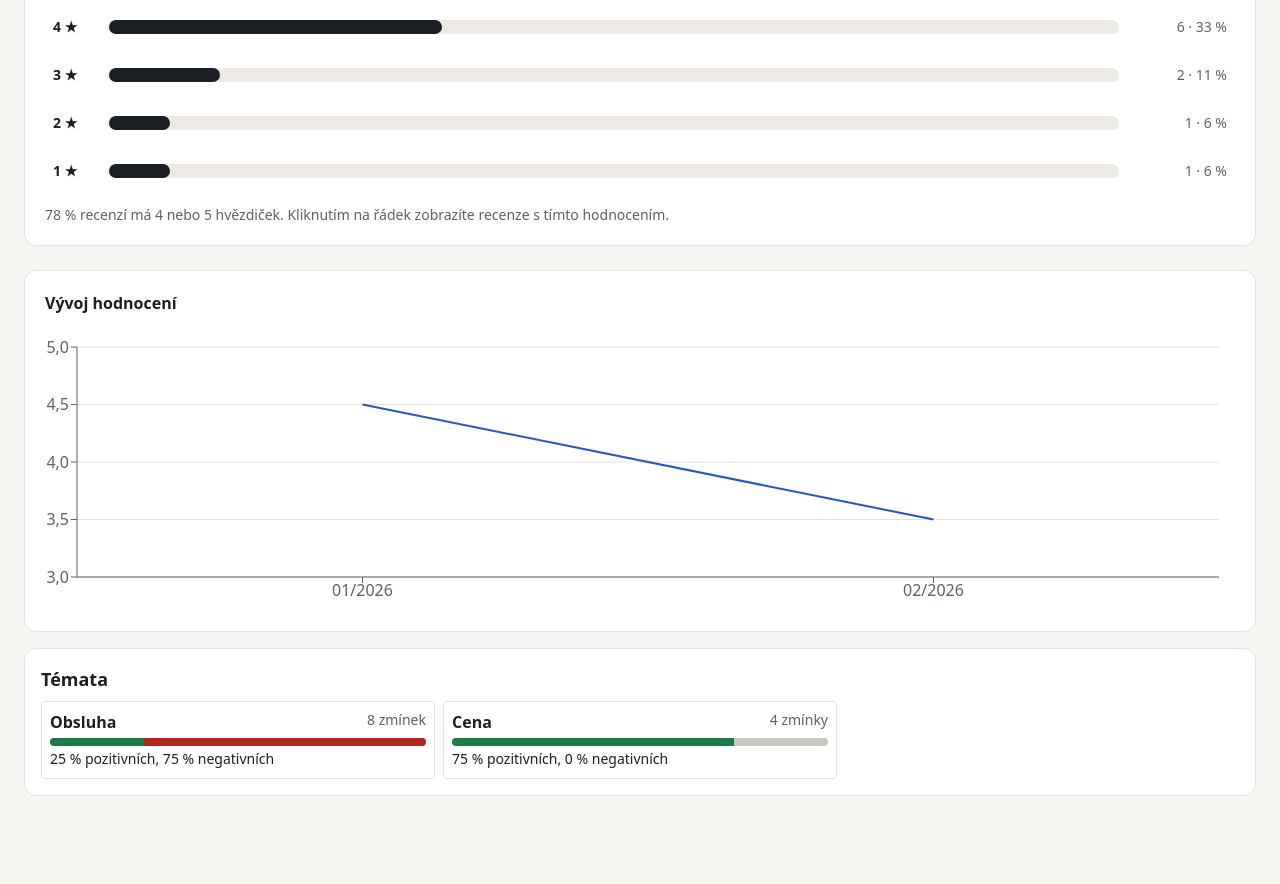
Test: Topics › opens the cited Reviews of a Topic in a side panel
(page scrolled)
Click the button "Obsluha 8 zmínek 25 % pozitivních, 75 % negativních" at (238, 740), box [41,701,435,779]
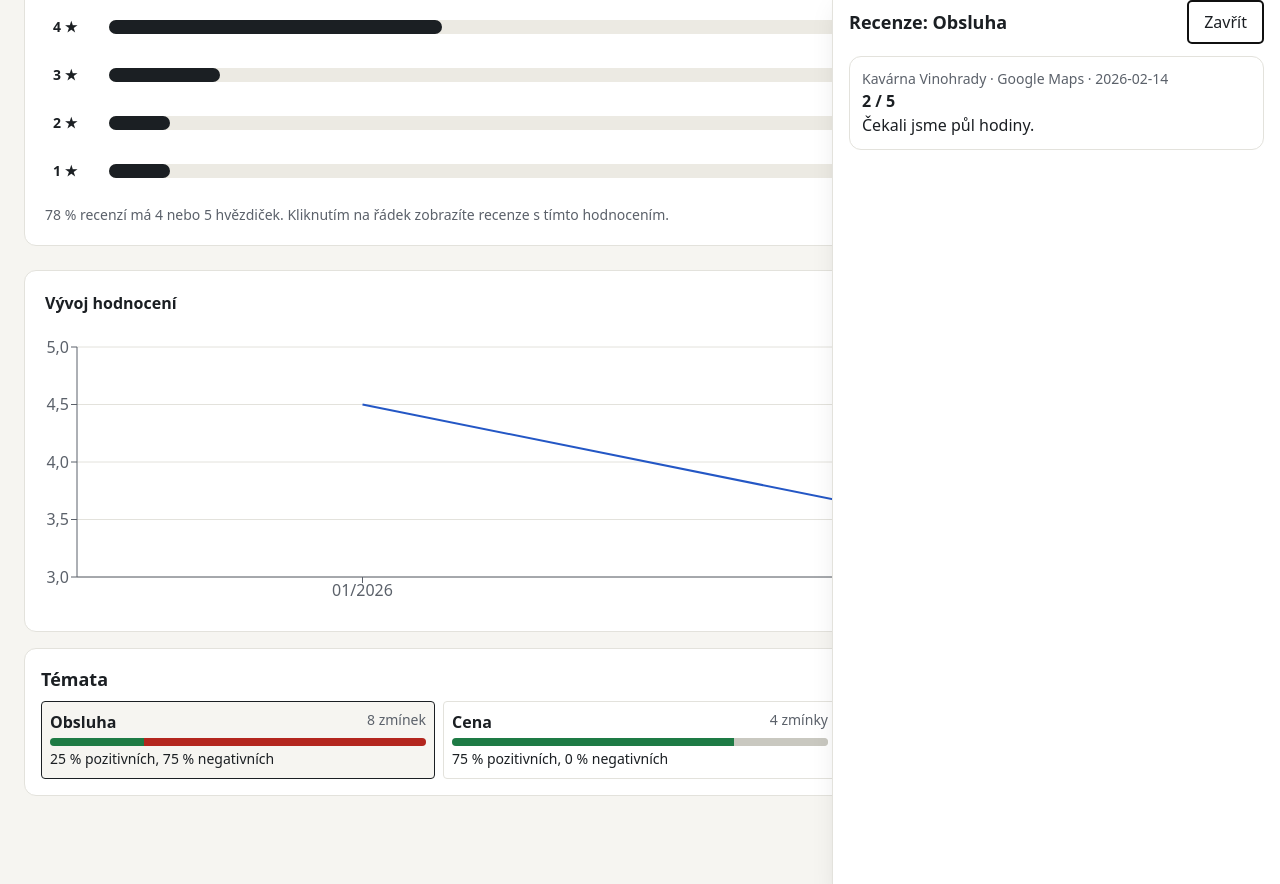
Now the text "Čekali jsme půl hodiny." is shown, box [862,114,1034,136]
Now the text "Kavárna Vinohrady · Google Maps · 2026-02-14" is shown, box [862,69,1168,88]
